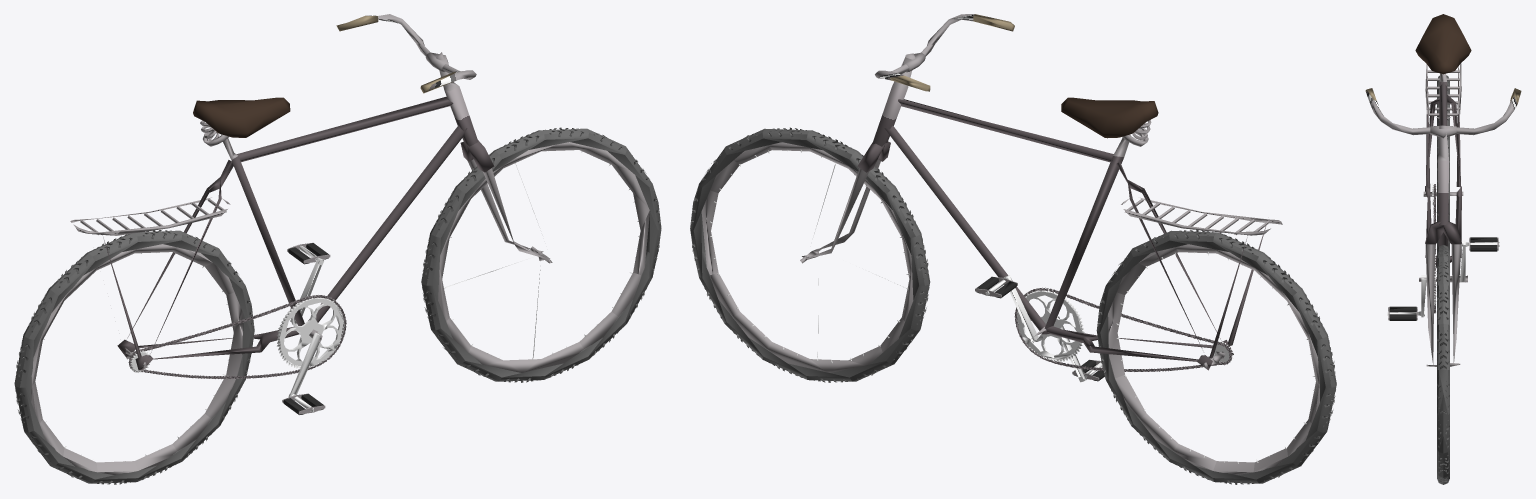
Rendered from old_bicycle.glb.
The picture shows the model from 3 angles, left to right: view 1: azimuth 30°, elevation 25°; view 2: azimuth 150°, elevation 25°; view 3: azimuth 270°, elevation 25°; orthographic projection. The views are drawn at different scales.
Visible parts, largest first — view 1: Bicycle-Body, Bicycle-Front-Tire, Bicycle-Back-Tire, Bicycle-Back-Tire-Ring, Bicycle-Front-Tire-Ring, Bicycle-Seat, Bicycle-Center-Gear, Bicycle-Tark, Bicycle-Chain, Bicycle-HandleBars, Bicycle-Back-Tire-Pattern, Bicycle-Front-Tire-Pattern (+1 smaller); view 2: Bicycle-Body, Bicycle-Front-Tire, Bicycle-Back-Tire, Bicycle-Back-Tire-Ring, Bicycle-Front-Tire-Ring, Bicycle-Seat, Bicycle-Tark, Bicycle-Center-Gear, Bicycle-HandleBars, Bicycle-Chain, Bicycle-Back-Tire-Pattern, Bicycle-Front-Tire-Pattern (+1 smaller); view 3: Bicycle-Body, Bicycle-Front-Tire, Bicycle-Seat, Bicycle-HandleBars, Bicycle-Tark, Bicycle-Front-Tire-Pattern, Bicycle-Pedals, Bicycle-Back-Tire, Bicycle-Right-Pedal, Bicycle-Left-Pedal, Bicycle-Hub, Bicycle-Chain.
Part boxes in pixels (x1,y1,x2,y2): Bicycle-Body: [102, 52, 547, 370]; Bicycle-Front-Tire: [421, 128, 661, 381]; Bicycle-Back-Tire: [14, 230, 254, 483]; Bicycle-Back-Tire-Ring: [31, 244, 243, 474]; Bicycle-Front-Tire-Ring: [438, 142, 649, 372]; Bicycle-Seat: [193, 97, 290, 146]; Bicycle-Center-Gear: [279, 298, 343, 366]; Bicycle-Tark: [70, 197, 230, 235]; Bicycle-Chain: [128, 295, 346, 379]; Bicycle-HandleBars: [336, 14, 476, 93]; Bicycle-Back-Tire-Pattern: [15, 230, 253, 484]; Bicycle-Front-Tire-Pattern: [422, 127, 660, 382]; Bicycle-Body: [805, 53, 1265, 370]; Bicycle-Front-Tire: [690, 128, 930, 381]; Bicycle-Back-Tire: [1096, 230, 1336, 483]; Bicycle-Back-Tire-Ring: [1108, 244, 1319, 474]; Bicycle-Front-Tire-Ring: [701, 142, 913, 372]; Bicycle-Seat: [1061, 97, 1158, 146]; Bicycle-Tark: [1121, 197, 1282, 235]; Bicycle-Center-Gear: [1017, 291, 1081, 359]; Bicycle-HandleBars: [875, 14, 1014, 91]; Bicycle-Chain: [1014, 287, 1232, 371]; Bicycle-Back-Tire-Pattern: [1097, 230, 1335, 484]; Bicycle-Front-Tire-Pattern: [691, 127, 929, 382]; Bicycle-Body: [1419, 66, 1467, 364]; Bicycle-Front-Tire: [1437, 245, 1449, 484]; Bicycle-Seat: [1415, 14, 1471, 74]; Bicycle-HandleBars: [1365, 88, 1521, 135]; Bicycle-Tark: [1425, 63, 1461, 118]; Bicycle-Front-Tire-Pattern: [1437, 247, 1449, 482]; Bicycle-Pedals: [1387, 240, 1499, 317]; Bicycle-Back-Tire: [1437, 75, 1449, 250]; Bicycle-Right-Pedal: [1388, 306, 1417, 320]; Bicycle-Left-Pedal: [1469, 237, 1498, 251]; Bicycle-Hub: [1430, 125, 1456, 138]; Bicycle-Chain: [1433, 184, 1436, 313].
Size of the model in its own units: 15.75 by 8.65 by 3.79.
1 material, 1 textured.
